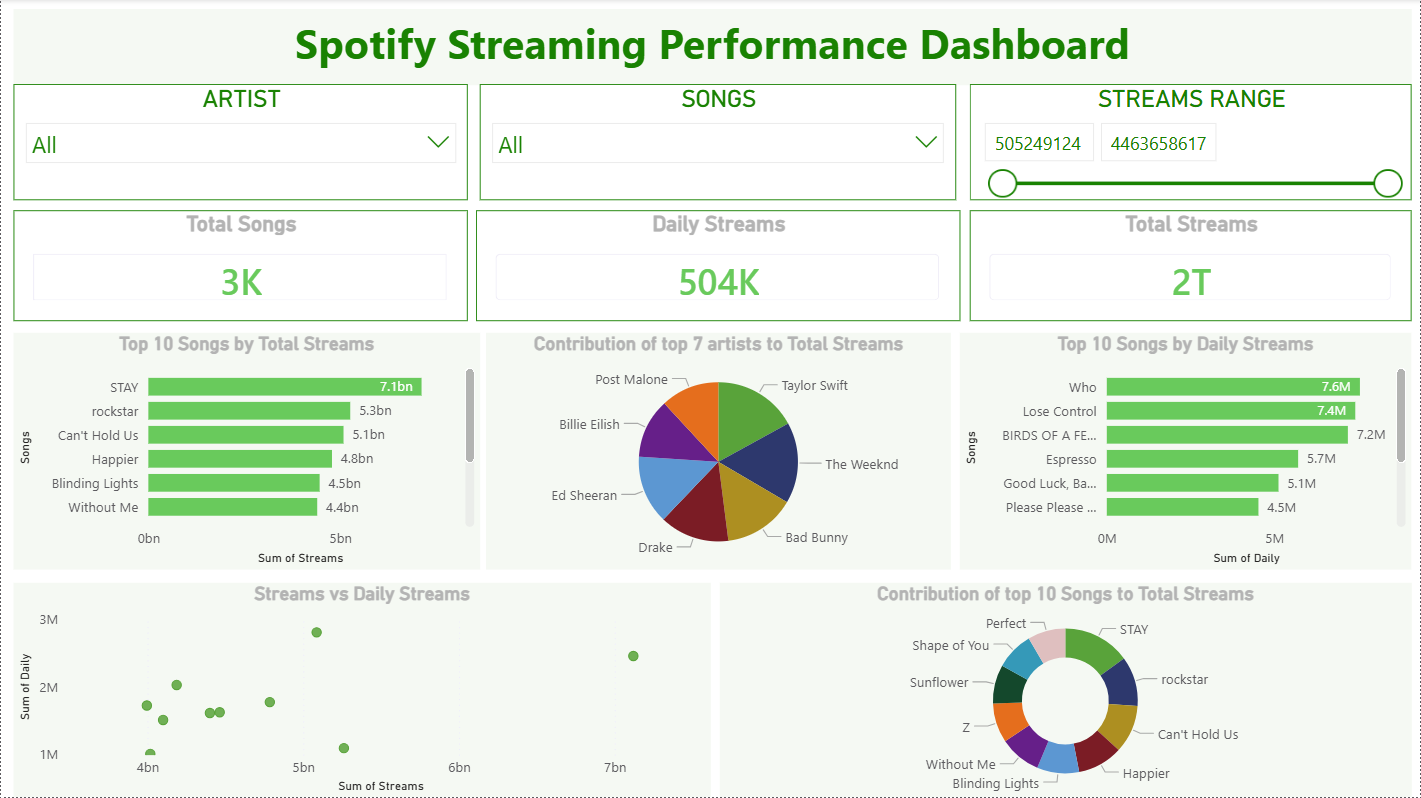

This screenshot's page, from the dashboard's own definition file:
{"tool":"powerbi","page":{"name":"Page 1","canvas":[1280,720],"ordinal":0},"visuals":[{"type":"cardVisual","title":"Total Songs","fields":{"Data":["Spotify_most_streamed_songs_dataset.Songs"]},"box":[11,190.8,409.6,100.3],"z":0},{"type":"cardVisual","title":"Daily Streams","fields":{"Data":["Spotify_most_streamed_songs_dataset.Daily"]},"box":[428,190.8,436.6,100.3],"z":1000},{"type":"cardVisual","title":"Total Streams","fields":{"Data":["Spotify_most_streamed_songs_dataset.Streams"]},"box":[873.1,190.8,398.6,100.3],"z":2000},{"type":"textbox","box":[11,8.6,1260.7,68.5],"z":3000},{"type":"barChart","title":"Top 10 Songs by Total Streams","fields":{"Category":["Spotify_most_streamed_songs_dataset.Songs"],"Y":["Spotify_most_streamed_songs_dataset.Streams"]},"box":[11,300.8,420.7,214],"z":4000},{"type":"clusteredBarChart","title":"Top 10 Songs by Daily Streams","fields":{"Category":["Spotify_most_streamed_songs_dataset.Songs"],"Y":["Spotify_most_streamed_songs_dataset.Daily"]},"box":[864.5,300.8,407.2,214],"z":5000},{"type":"scatterChart","title":" Streams vs Daily Streams","fields":{"X":["Spotify_most_streamed_songs_dataset.Streams"],"Y":["Spotify_most_streamed_songs_dataset.Daily"],"Category":["Spotify_most_streamed_songs_dataset.Songs"]},"box":[11,525.8,628.5,194.4],"z":6000},{"type":"donutChart","title":"Contribution of top 10 Songs to Total Streams","fields":{"Y":["Spotify_most_streamed_songs_dataset.Streams"],"Category":["Spotify_most_streamed_songs_dataset.Songs"]},"box":[648.1,525.8,623.6,194.4],"z":7000},{"type":"pieChart","title":"Contribution of top 7 artists to Total Streams","fields":{"Category":["Spotify_most_streamed_songs_dataset.Artist"],"Y":["Spotify_most_streamed_songs_dataset.Streams"]},"box":[437.8,300.8,419.4,214],"z":8000},{"type":"slicer","title":"ARTIST","fields":{"Values":["Spotify_most_streamed_songs_dataset.Artist"]},"box":[11,77,409.6,105.2],"z":9000},{"type":"slicer","title":"SONGS","fields":{"Values":["Spotify_most_streamed_songs_dataset.Songs"]},"box":[431.7,77,429.2,105.2],"z":10000},{"type":"slicer","title":"STREAMS RANGE","fields":{"Values":["Spotify_most_streamed_songs_dataset.Streams"]},"box":[873.1,77,398.6,105.2],"z":11000}]}

Visuals, with their boxes in screenshot pixels (x1, y1, x2, y2), scaled from the page's 1280x720 canvas onto the 1421x798 screenshot:
"Total Songs" cardVisual: crop(12, 211, 467, 323)
"Daily Streams" cardVisual: crop(475, 211, 960, 323)
"Total Streams" cardVisual: crop(969, 211, 1412, 323)
textbox: crop(12, 10, 1412, 85)
"Top 10 Songs by Total Streams" barChart: crop(12, 333, 479, 571)
"Top 10 Songs by Daily Streams" clusteredBarChart: crop(960, 333, 1412, 571)
" Streams vs Daily Streams" scatterChart: crop(12, 583, 710, 797)
"Contribution of top 10 Songs to Total Streams" donutChart: crop(719, 583, 1412, 797)
"Contribution of top 7 artists to Total Streams" pieChart: crop(486, 333, 952, 571)
"ARTIST" slicer: crop(12, 85, 467, 202)
"SONGS" slicer: crop(479, 85, 956, 202)
"STREAMS RANGE" slicer: crop(969, 85, 1412, 202)
